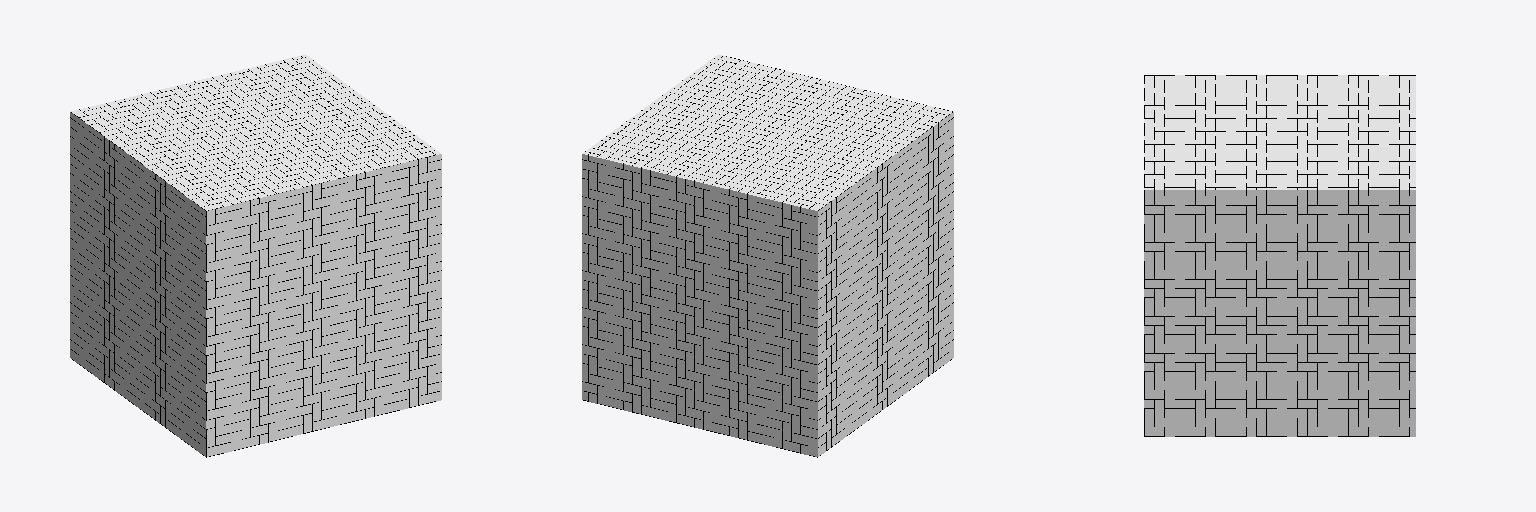
3 renders of one model, left to right at view 1: azimuth 30°, elevation 25°; view 2: azimuth 150°, elevation 25°; view 3: azimuth 270°, elevation 25°, orthographic.
Size of the model in its own units: 0.2 by 0.2 by 0.2.
1 materials, 1 textured.